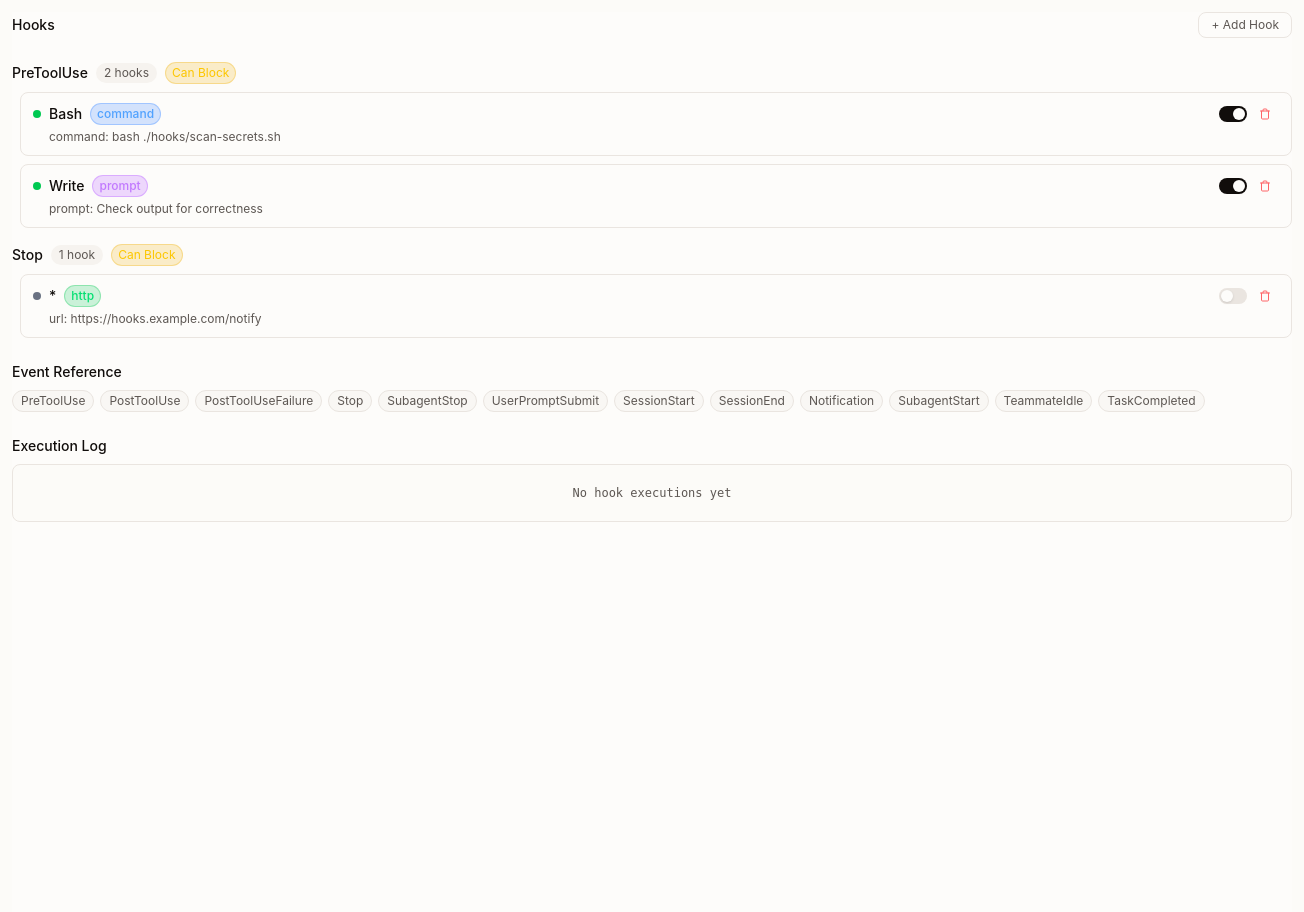
Test: HooksPanel › add form shows prompt textarea for prompt type
expect the element with test id "hooks-panel" is shown: met, box x1=12 y1=12 x2=1292 y2=522
Click the button with test id "hooks-add-btn": point(1245, 25) x1=1198 y1=12 x2=1292 y2=38
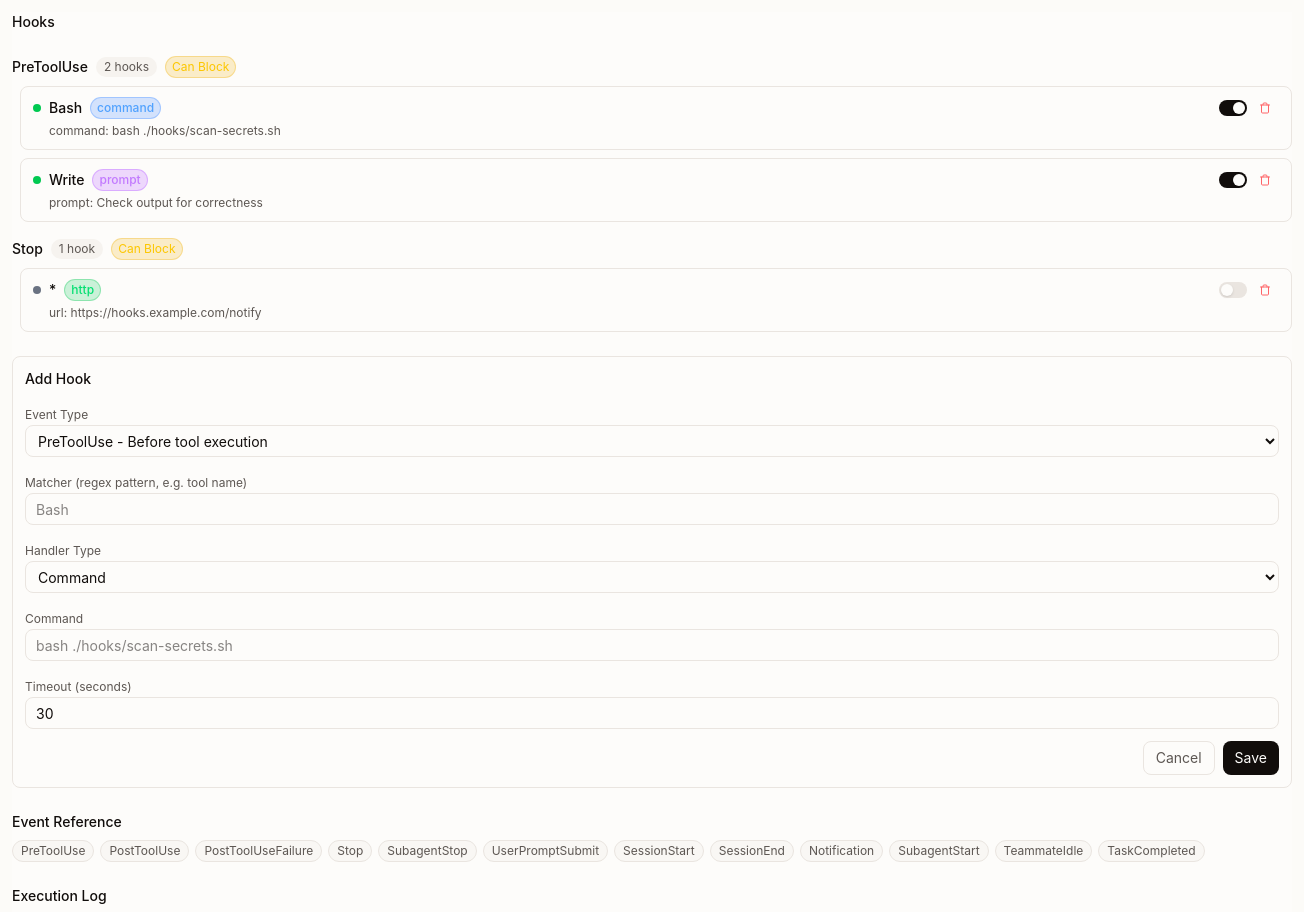
Select "Prompt" in the dropdown with test id "hooks-add-handler-type-select": point(652, 577) x1=25 y1=561 x2=1279 y2=593
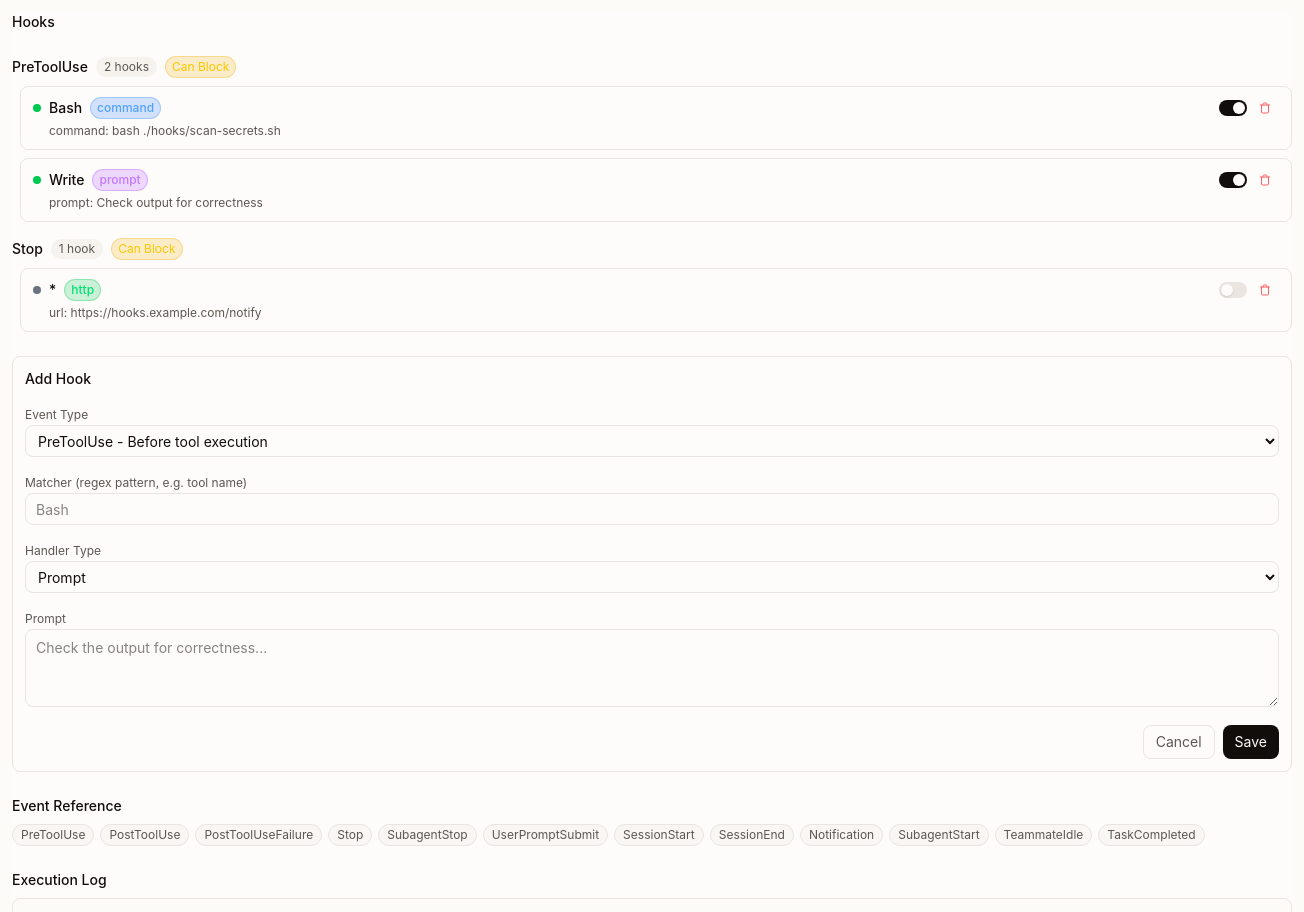
expect the text box with test id "hooks-add-prompt-input" is shown: met, box x1=25 y1=629 x2=1279 y2=707
expect the field with test id "hooks-add-command-input" is gone: met
